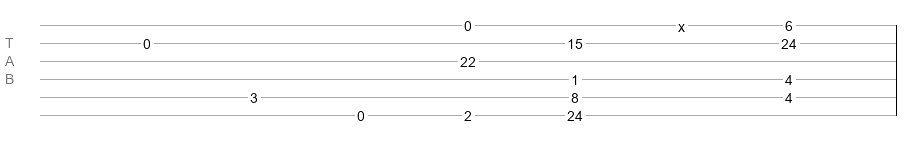0: (143, 36, 151, 46), (357, 108, 365, 118), (464, 18, 472, 28)
1: (571, 72, 579, 82)
15: (567, 36, 583, 46)
2: (464, 108, 472, 118)
22: (460, 54, 476, 64)
24: (567, 108, 583, 118), (781, 36, 797, 46)
3: (250, 90, 258, 100)
4: (785, 90, 793, 100), (785, 72, 793, 82)
6: (785, 18, 793, 28)
8: (571, 90, 579, 100)
x: (678, 19, 685, 27)
